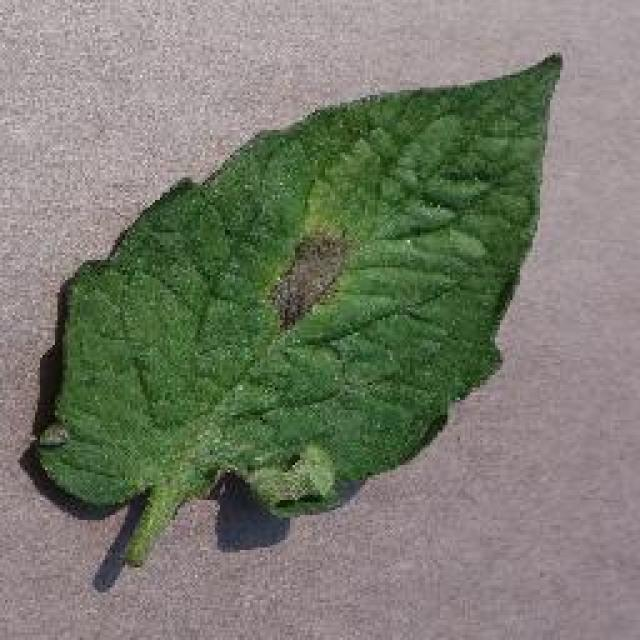Tomato Late Blight: (168, 212, 447, 388)
